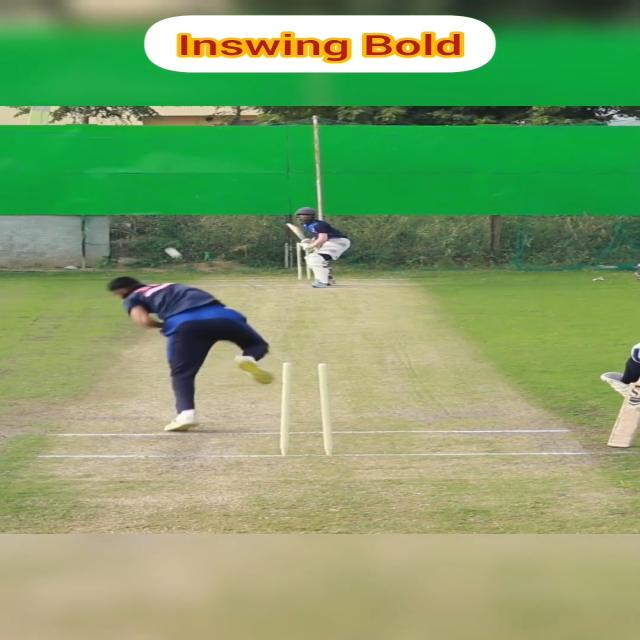ball: (165, 247, 182, 258)
stump: (275, 362, 336, 456)
